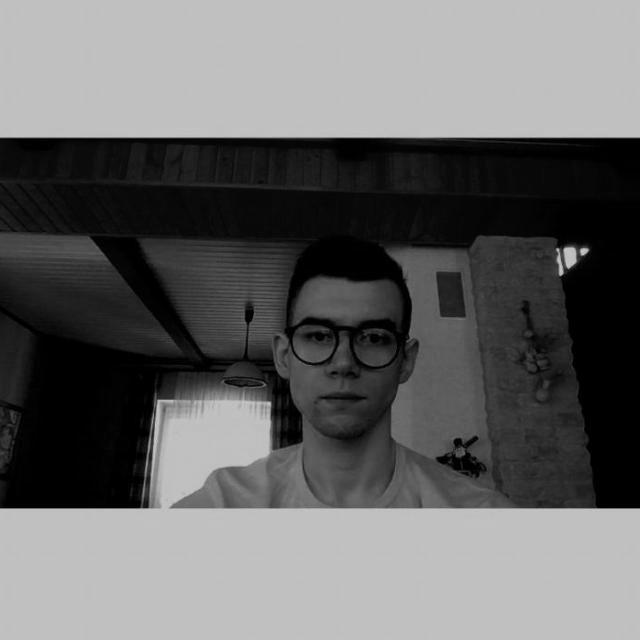real: (288, 282, 402, 438)
